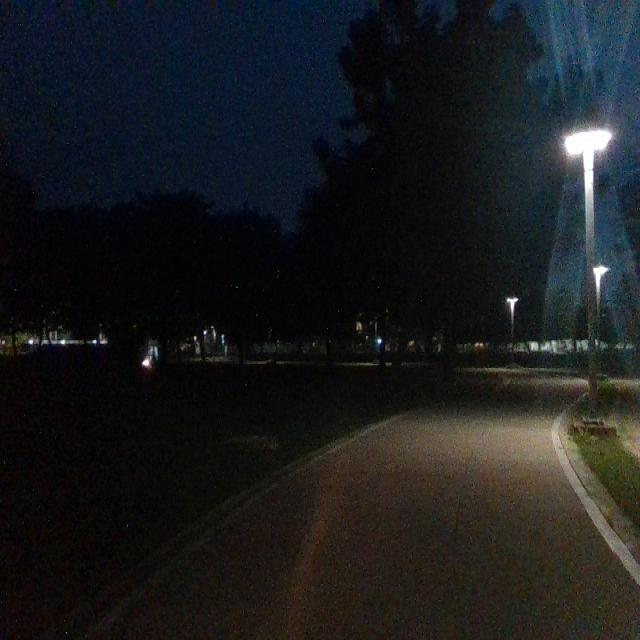lane: (108, 413, 640, 636)
